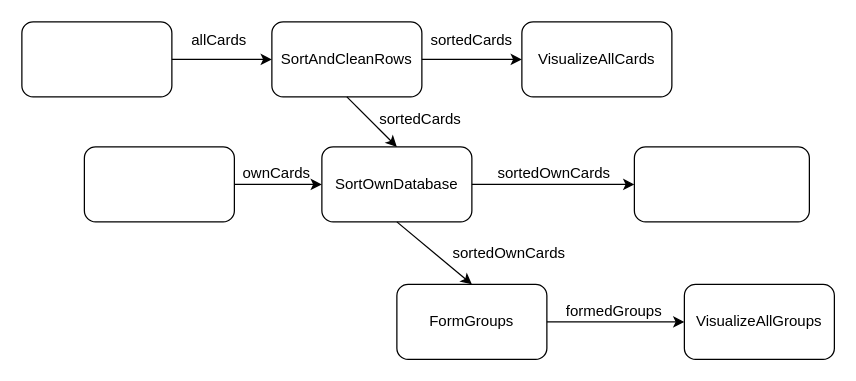
The diagram is 856 pixels wide and 381 high, and some of its shapes have lost their labels. Here are the shapes that lost their labels. From the top down, the box of each, then its label:
(21, 21, 172, 97): GetAllCards
(83, 146, 234, 222): GetOwnDatabase
(633, 146, 809, 222): VisualizeOwnDatabase
